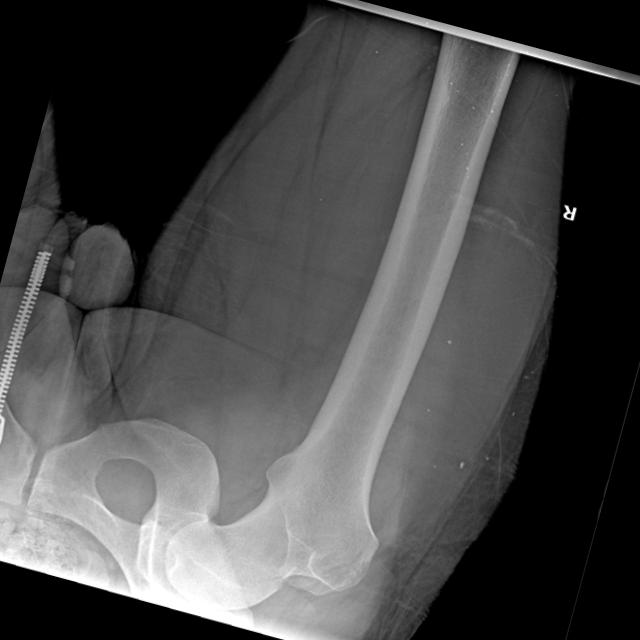normal-right: (163, 330, 421, 608)
